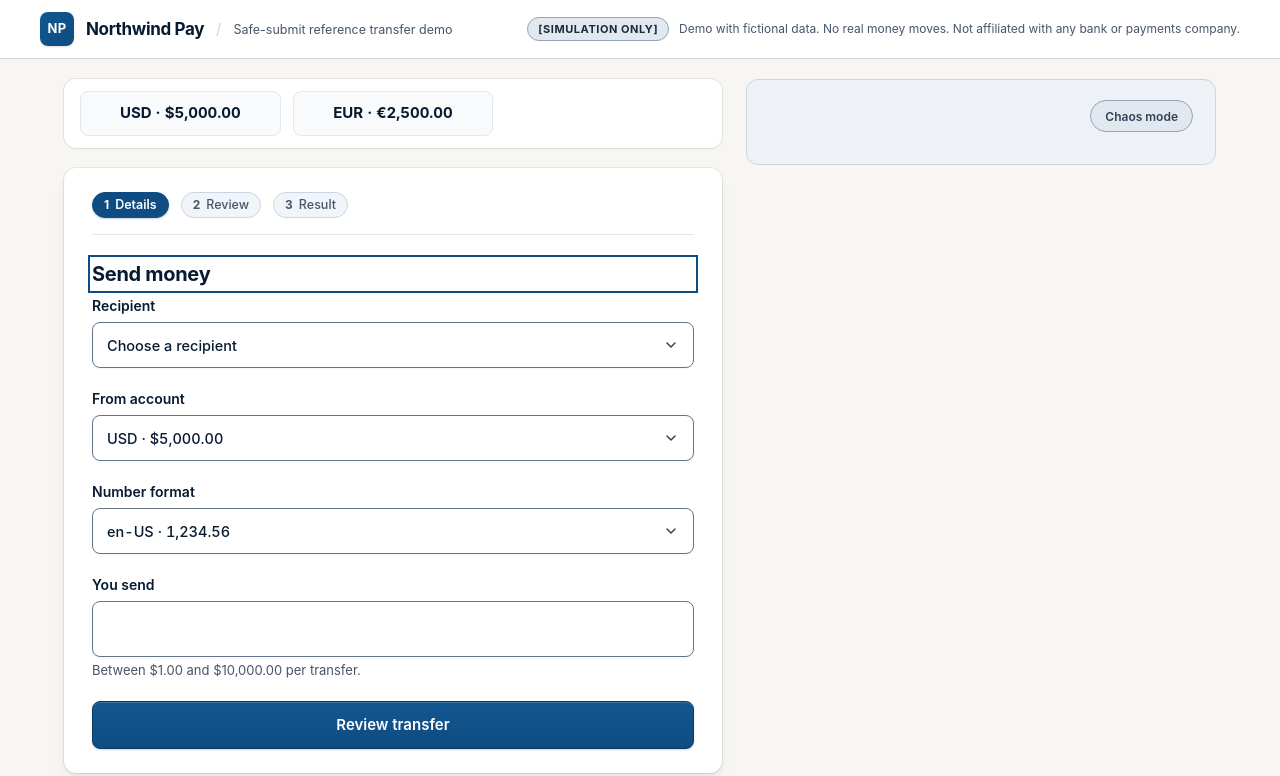
Test: App shell and integration › renders application shell elements: header, demo banner, account summary, empty activity, chaos button
Expected: the heading "Northwind Pay" is shown, [86,19,204,39]
Expected: the text "Demo with fictional data. No real money moves. Not affiliated with any bank or payments company." is shown, [679,21,1240,36]
Click the button "Chaos mode" at [1142, 116], box [1090,100,1193,132]
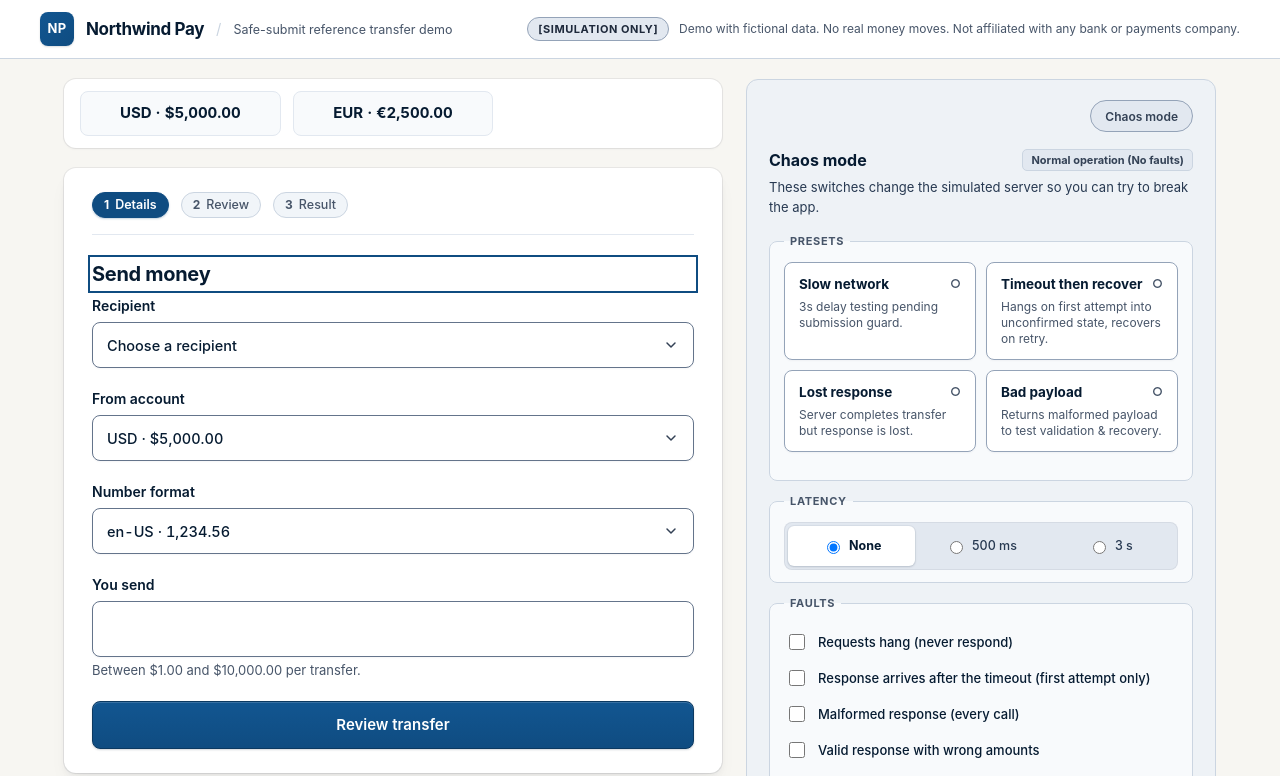
Expected: the heading "Chaos mode" is shown, [769,148,867,172]
